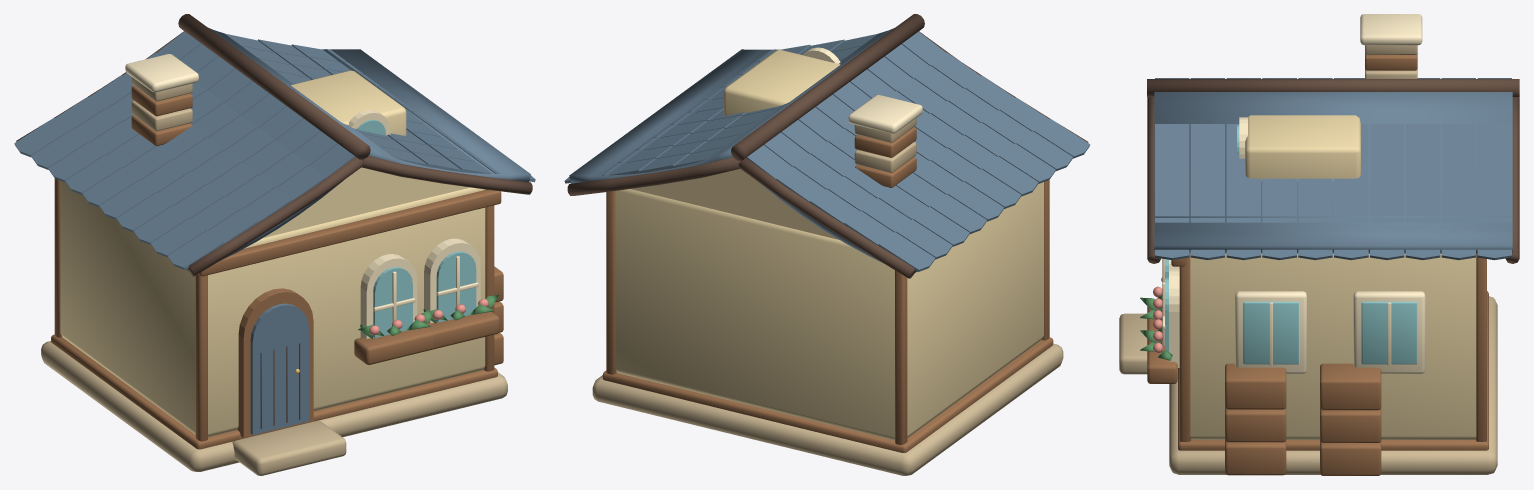
Rendered from depot.glb.
The picture shows the model from 3 angles, left to right: view 1: azimuth 30°, elevation 25°; view 2: azimuth 150°, elevation 25°; view 3: azimuth 270°, elevation 25°; orthographic projection. The views are drawn at different scales.
Parts seen in each view (by area): view 1: depot_crafted_mesh; view 2: depot_crafted_mesh; view 3: depot_crafted_mesh.
Boxes of the visible parts, x1,y1,x2,y2 form: depot_crafted_mesh: (14, 14, 535, 475); depot_crafted_mesh: (564, 14, 1090, 475); depot_crafted_mesh: (1119, 14, 1519, 475).
Bounding box in the file's own units: 5.02 × 4.2 × 4.64.
